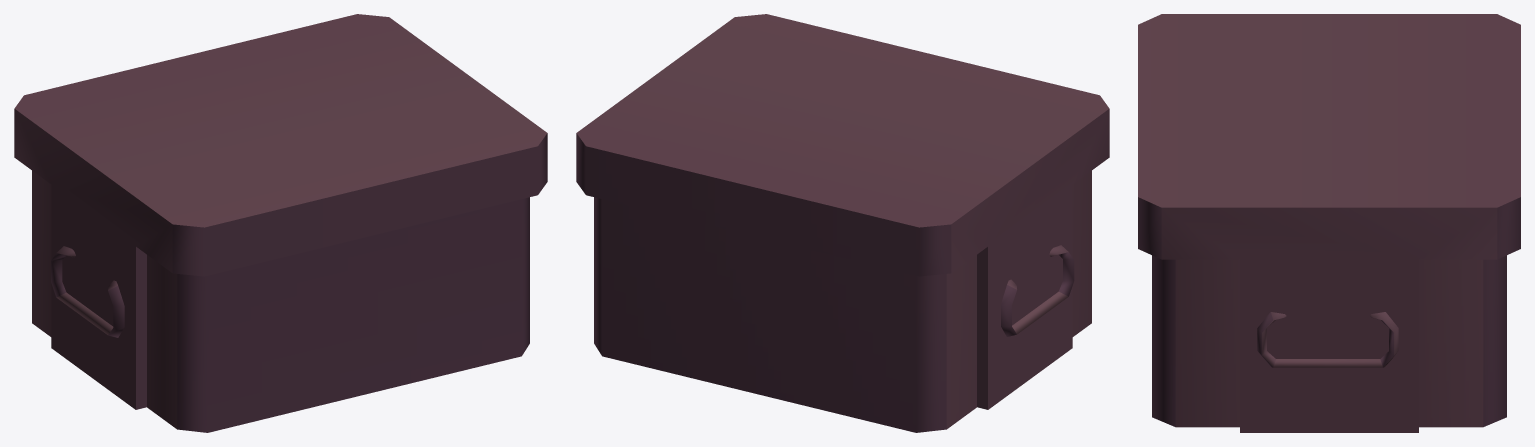
File: Shotgun_Box_Closed.fbx
3 views of the same model, side by side, from view 1: azimuth 30°, elevation 25°; view 2: azimuth 150°, elevation 25°; view 3: azimuth 270°, elevation 25° (orthographic). The views are drawn at different scales.
Visible parts, largest first — view 1: Shotgun_Box_Closed; view 2: Shotgun_Box_Closed; view 3: Shotgun_Box_Closed.
Part boxes in pixels (<box>): Shotgun_Box_Closed: <box>14,14,547,432</box>; Shotgun_Box_Closed: <box>576,14,1109,432</box>; Shotgun_Box_Closed: <box>1138,14,1520,432</box>.
Size of the model in its own units: 63.04 by 32.36 by 49.85.
